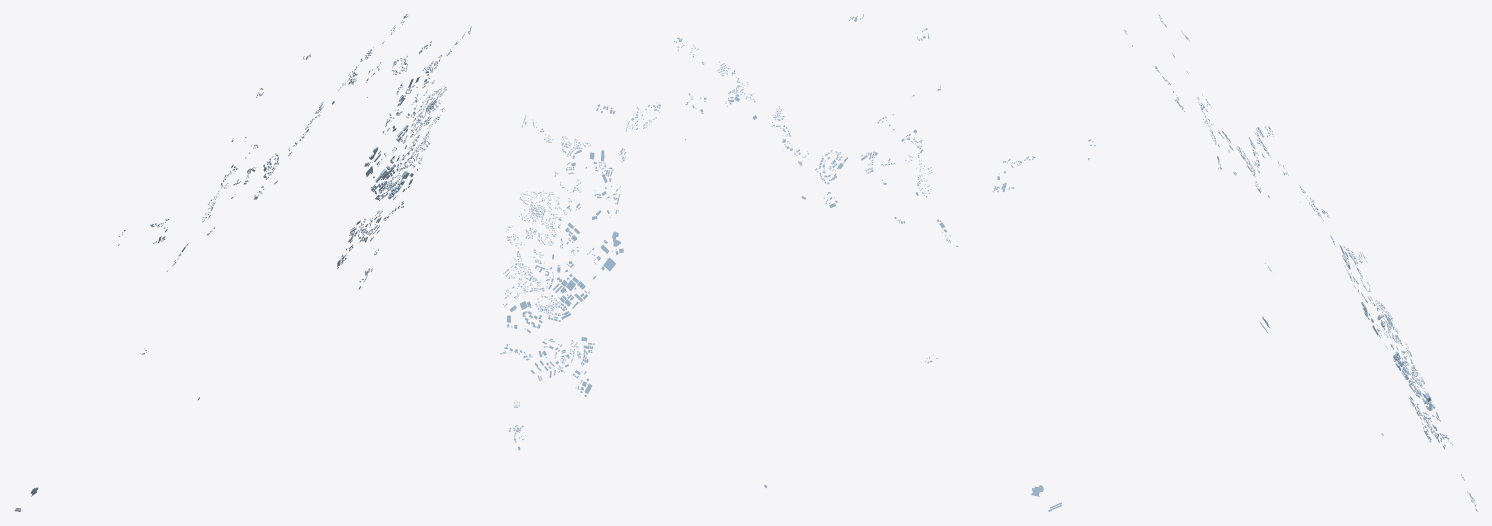
3 renders of one model, left to right at view 1: azimuth 30°, elevation 25°; view 2: azimuth 150°, elevation 25°; view 3: azimuth 270°, elevation 25°, orthographic. The views are drawn at different scales.
Visible parts, largest first — view 1: geometry_0; view 2: geometry_0; view 3: geometry_0.
Part boxes in pixels (left/top/right/bottom): geometry_0: left=14, top=14, right=471, bottom=511; geometry_0: left=500, top=14, right=1095, bottom=511; geometry_0: left=1124, top=14, right=1477, bottom=511.
Bounding box in the file's own units: 4764 × 3834 × 2945.
